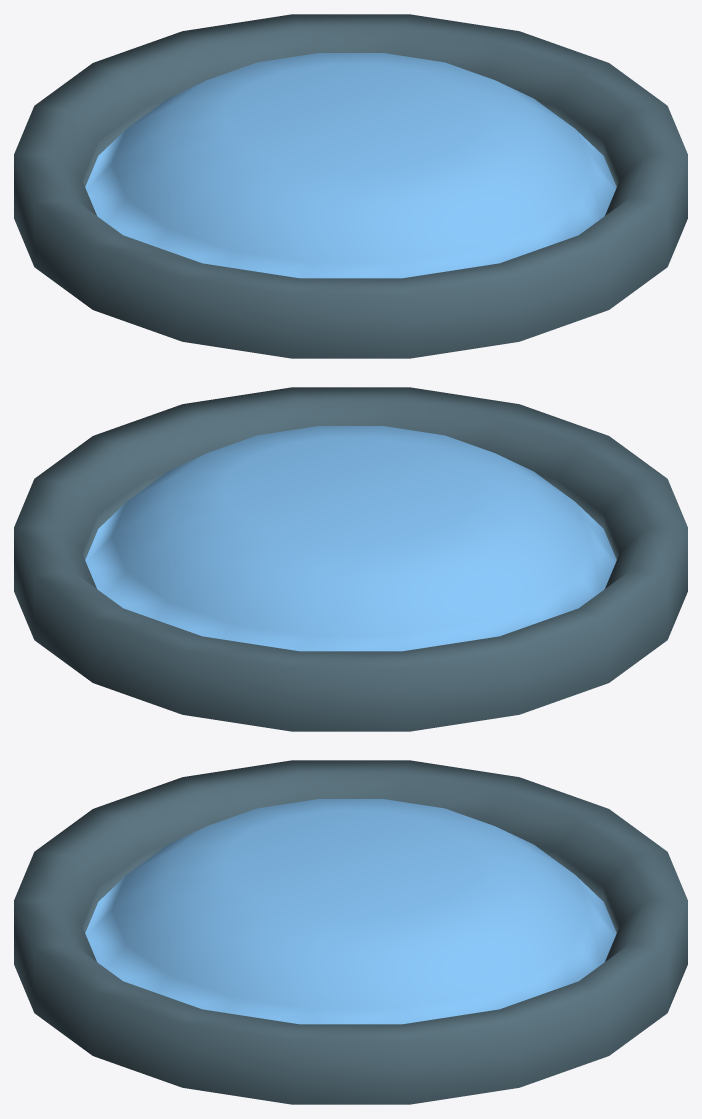
The model's file is Ship Window.fbx.
3 renders of one model, top to bottom at view 1: azimuth 30°, elevation 25°; view 2: azimuth 150°, elevation 25°; view 3: azimuth 270°, elevation 25°, orthographic.
Visible parts, largest first — view 1: Ship Window; view 2: Ship Window; view 3: Ship Window.
Boxes of the visible parts, x1,y1,x2,y2 form: Ship Window: [14, 14, 687, 358]; Ship Window: [14, 387, 687, 731]; Ship Window: [14, 760, 687, 1104].
Size of the model in its own units: 197 by 32.84 by 200.
